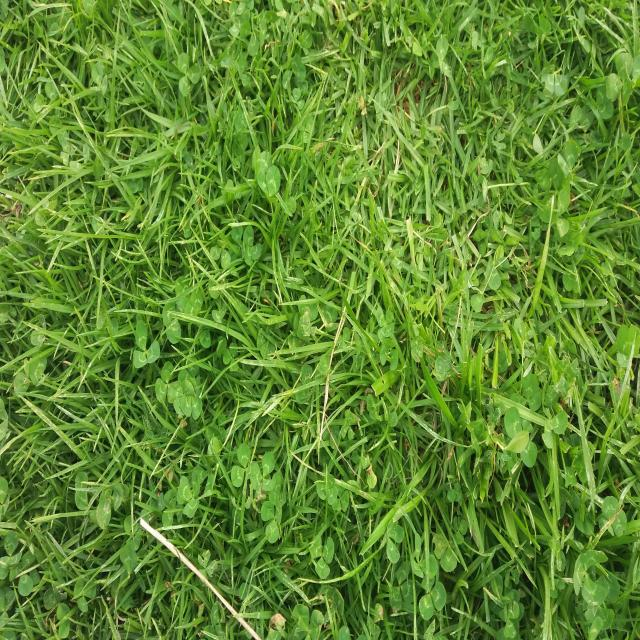Four Leaf Clover: (376, 306, 394, 342), (433, 356, 451, 381)
